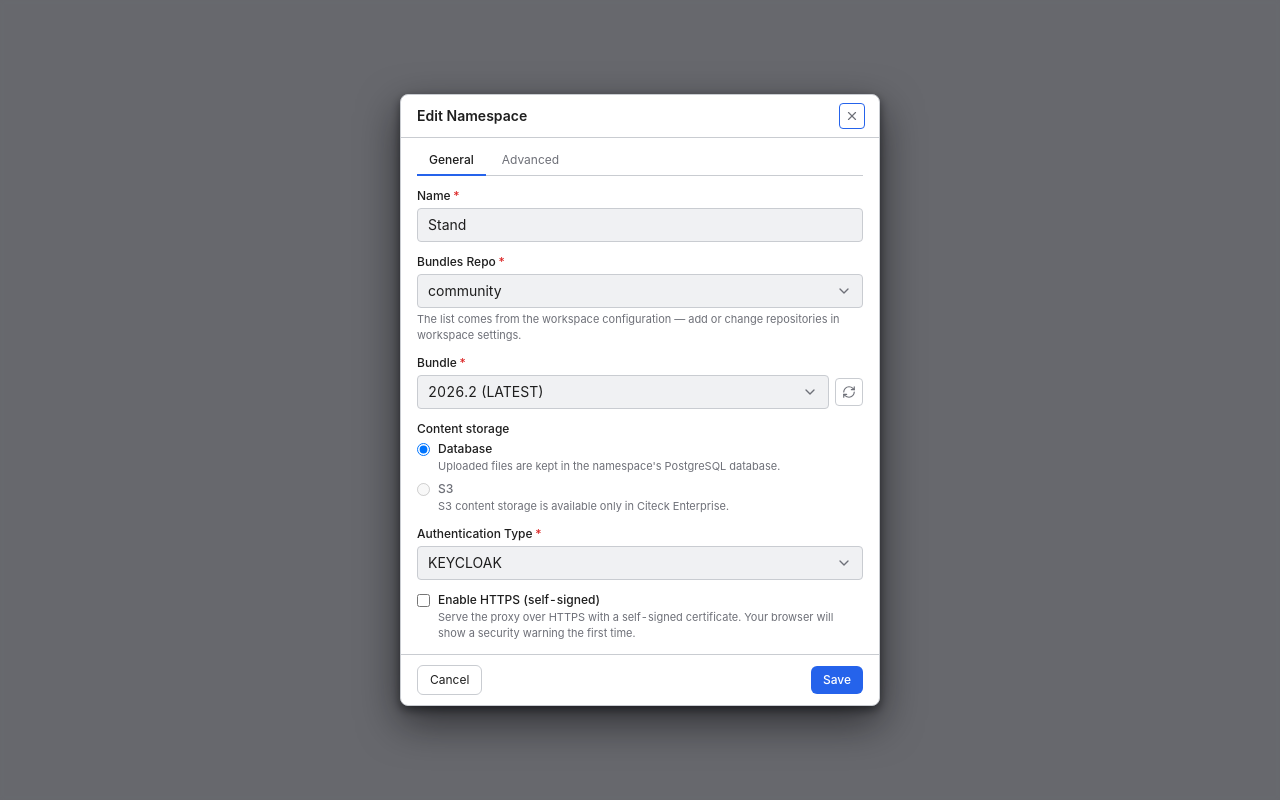
Scenario: NamespaceEditDialog Advanced tab › offers the MongoDB toggle on a namespace created before it was dropped
Expected: the field showing "Stand" is shown, [417,208,863,242]
Click the tab "Advanced" at (530, 161), box [490,146,571,176]
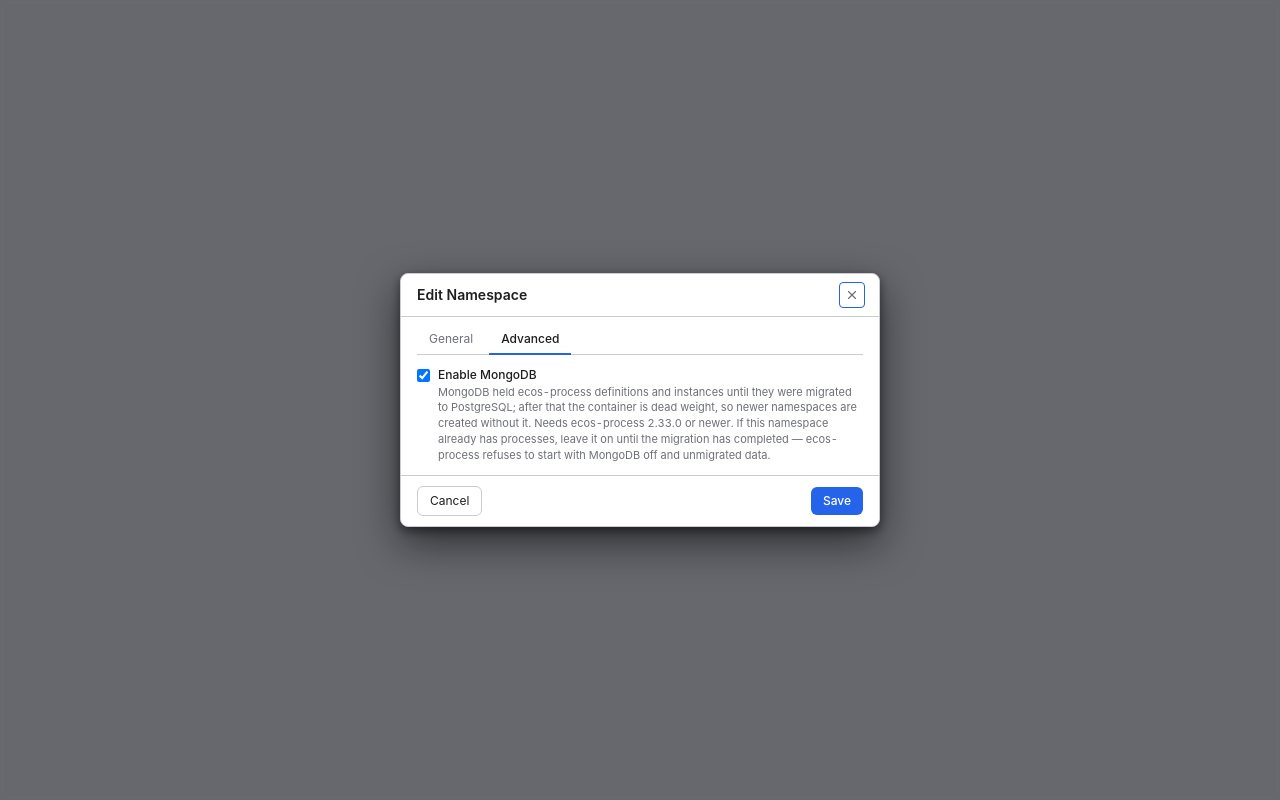
Expected: the checkbox labelled "MongoDB" is checked, [417,369,430,382]
